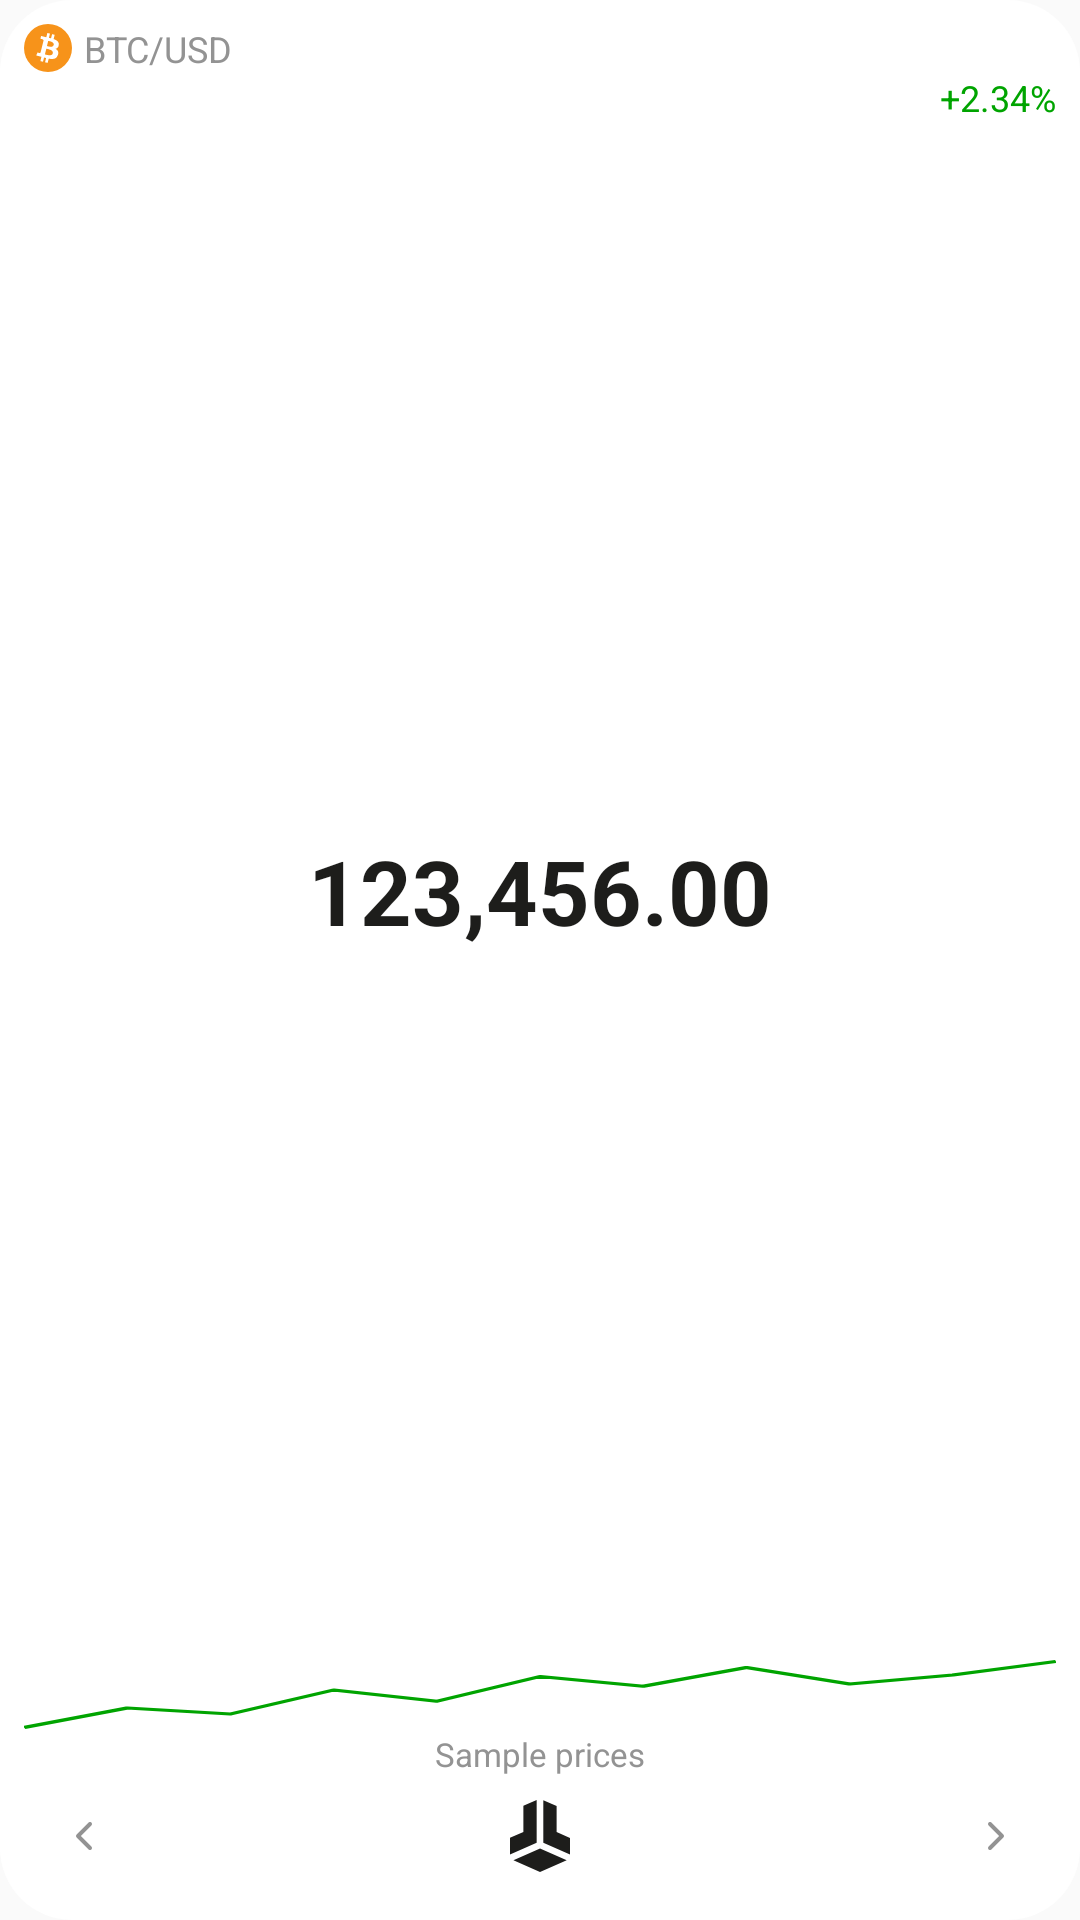

Point at icon controls on the screen. Image size 1080 x 1920, points as [x,y].
Next coin: [996,1836]
Previous coin: [84,1836]
